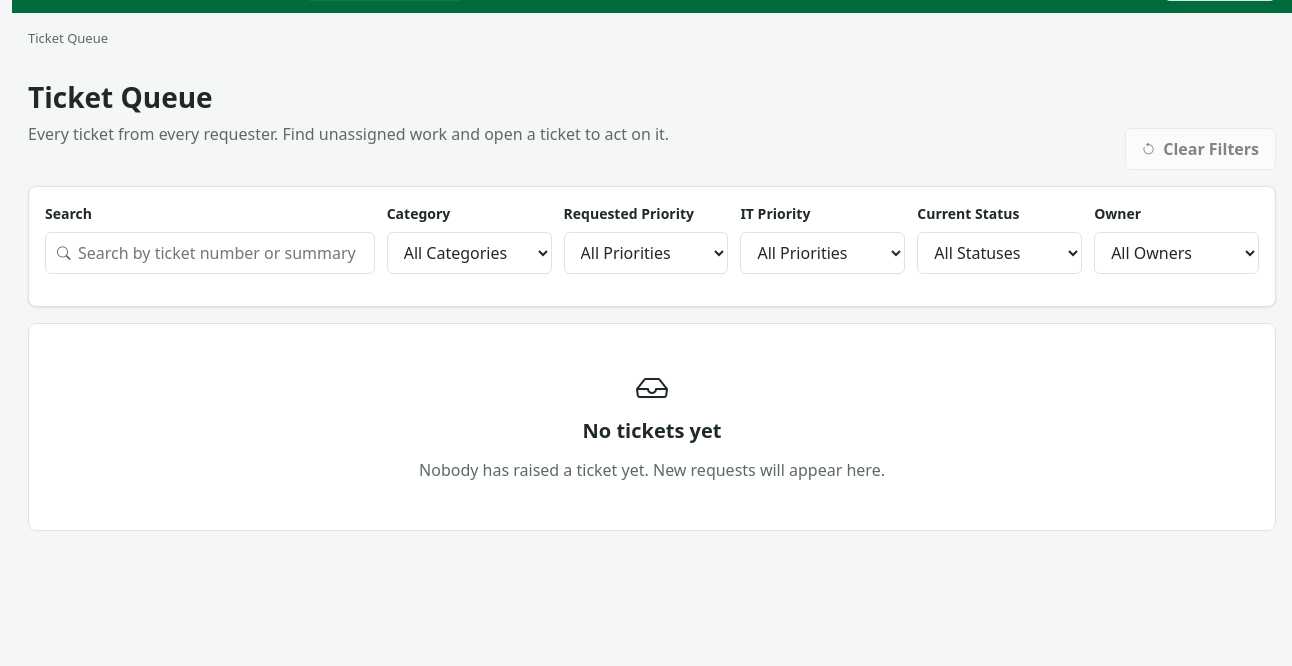
Test case: UI-18 the queue reads URL filters › writes Owner back as ownerId, and Unassigned as unassigned=true
Select "Michael Brown" in the dropdown labelled "Owner" at (1177, 253), box [1094,232,1259,274]
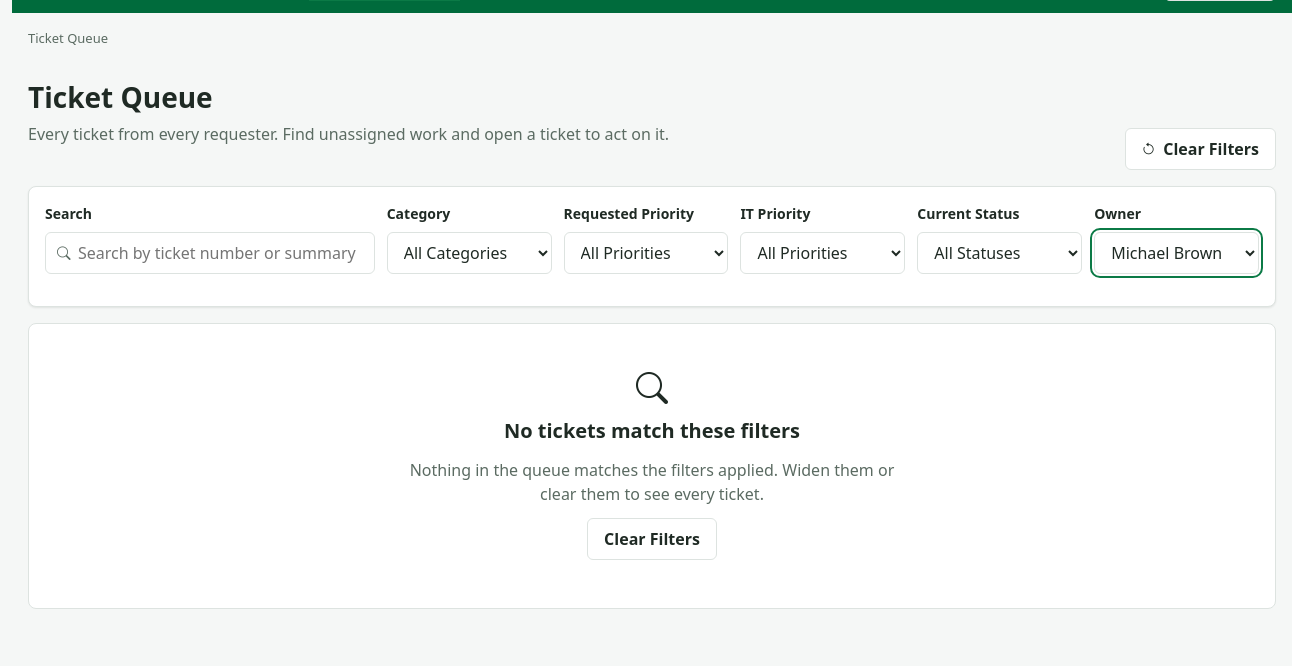
Select "Unassigned" in the dropdown labelled "Owner" at (1177, 253), box [1094,232,1259,274]
(page scrolled)
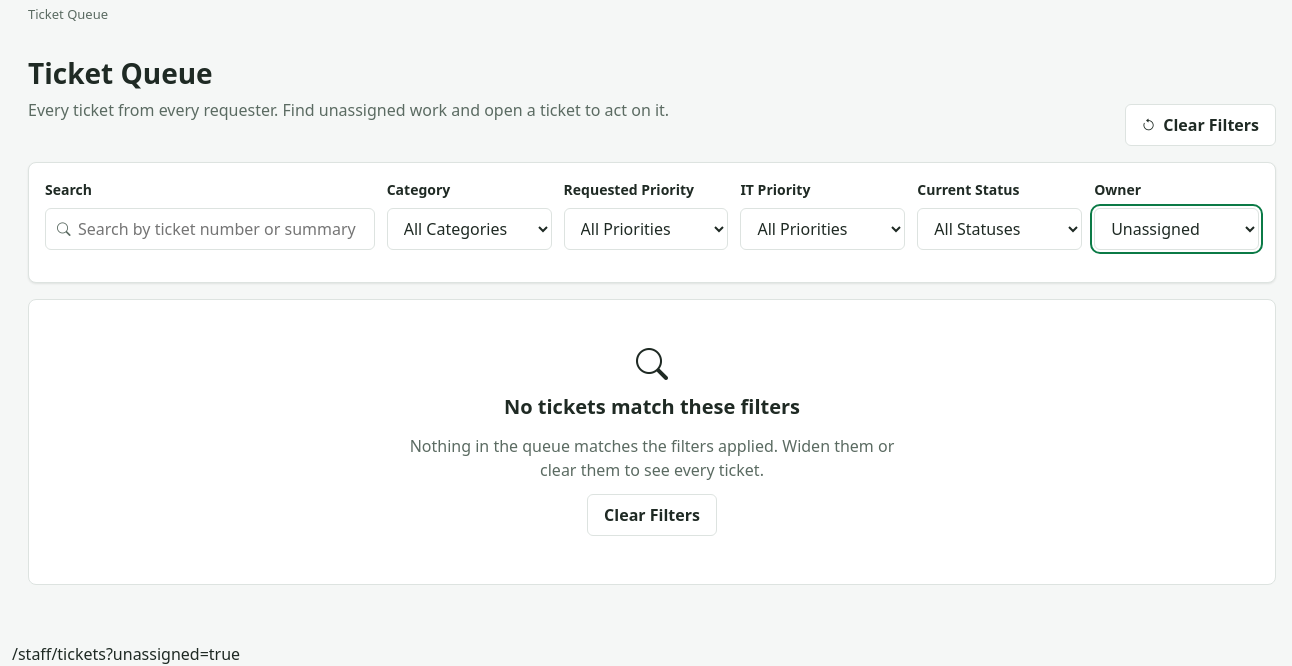
Check: the text with test id "where" reads "/staff/tickets?unassigned=true", box [12,643,240,665]
